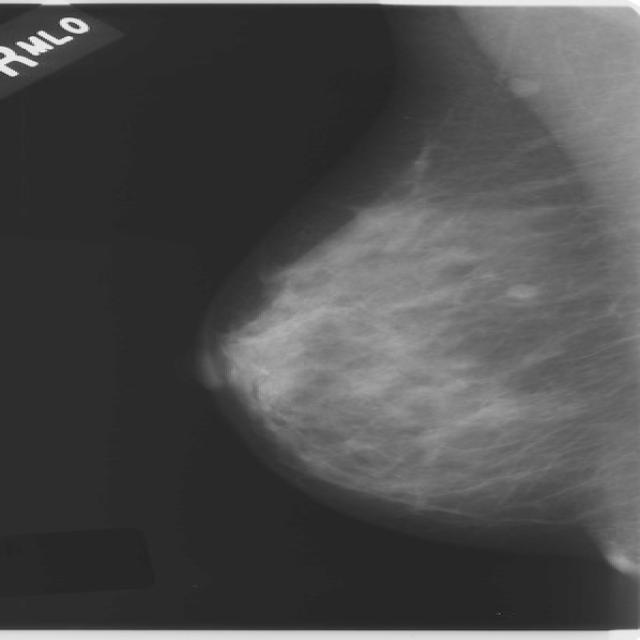tumour: (503, 282, 537, 298)
